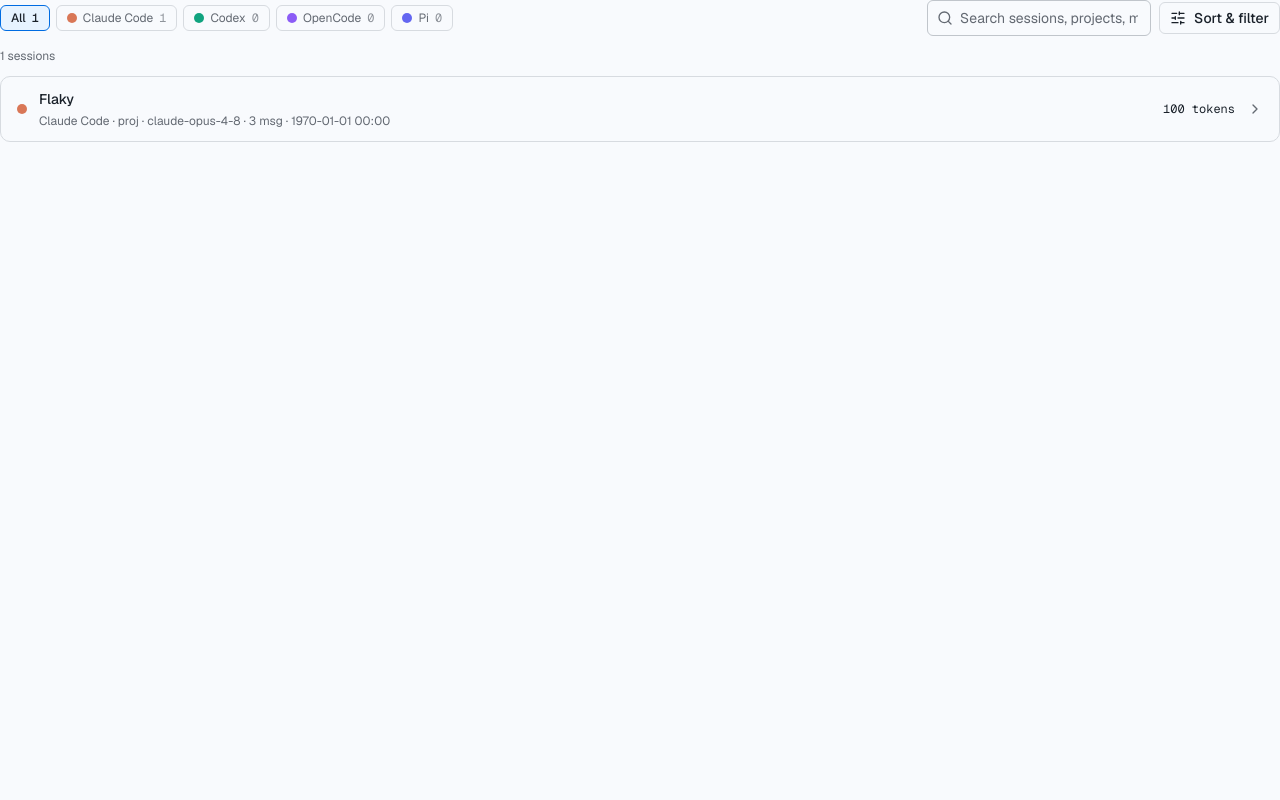
Test: SessionBrowser › retries a failed load in place
Click the text "Flaky".
click(57, 99)  # box top-left (39, 90), bottom-right (74, 108)
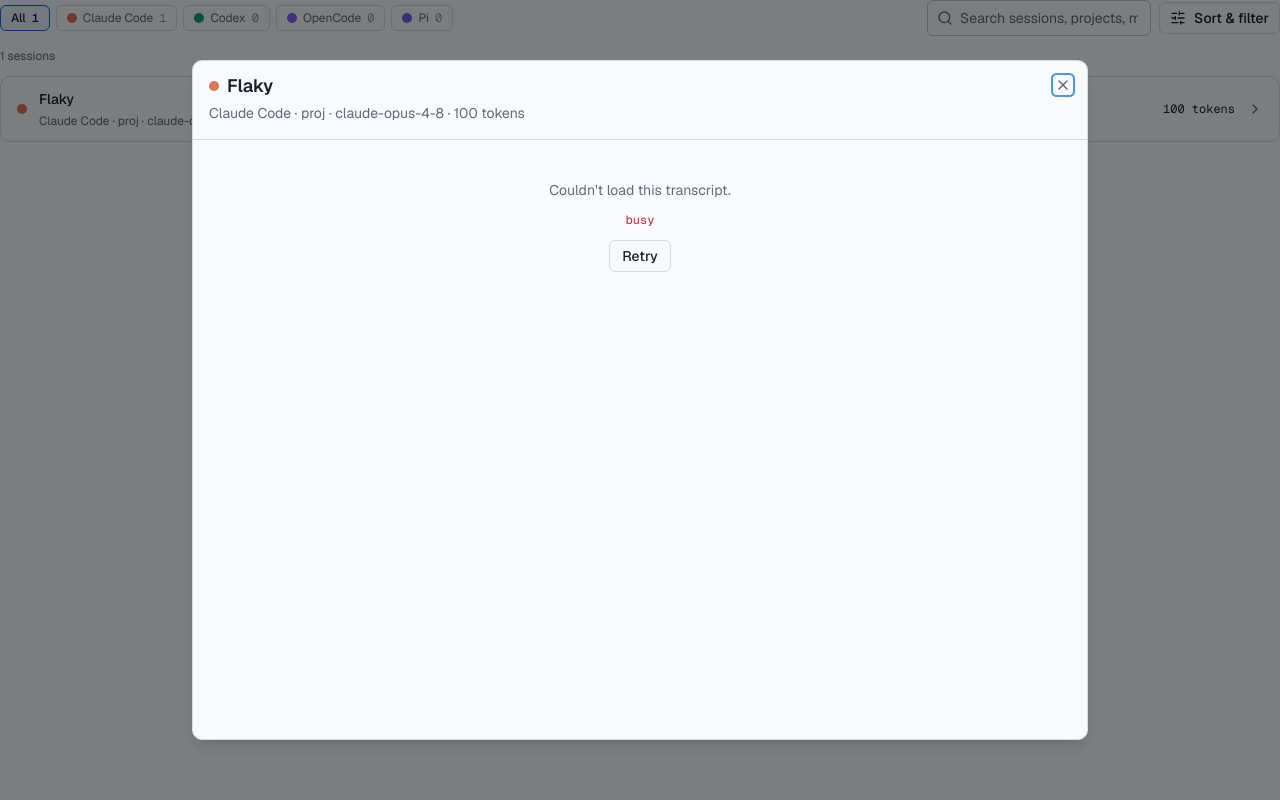
Click the button "Retry".
click(640, 256)  # box top-left (609, 240), bottom-right (671, 272)
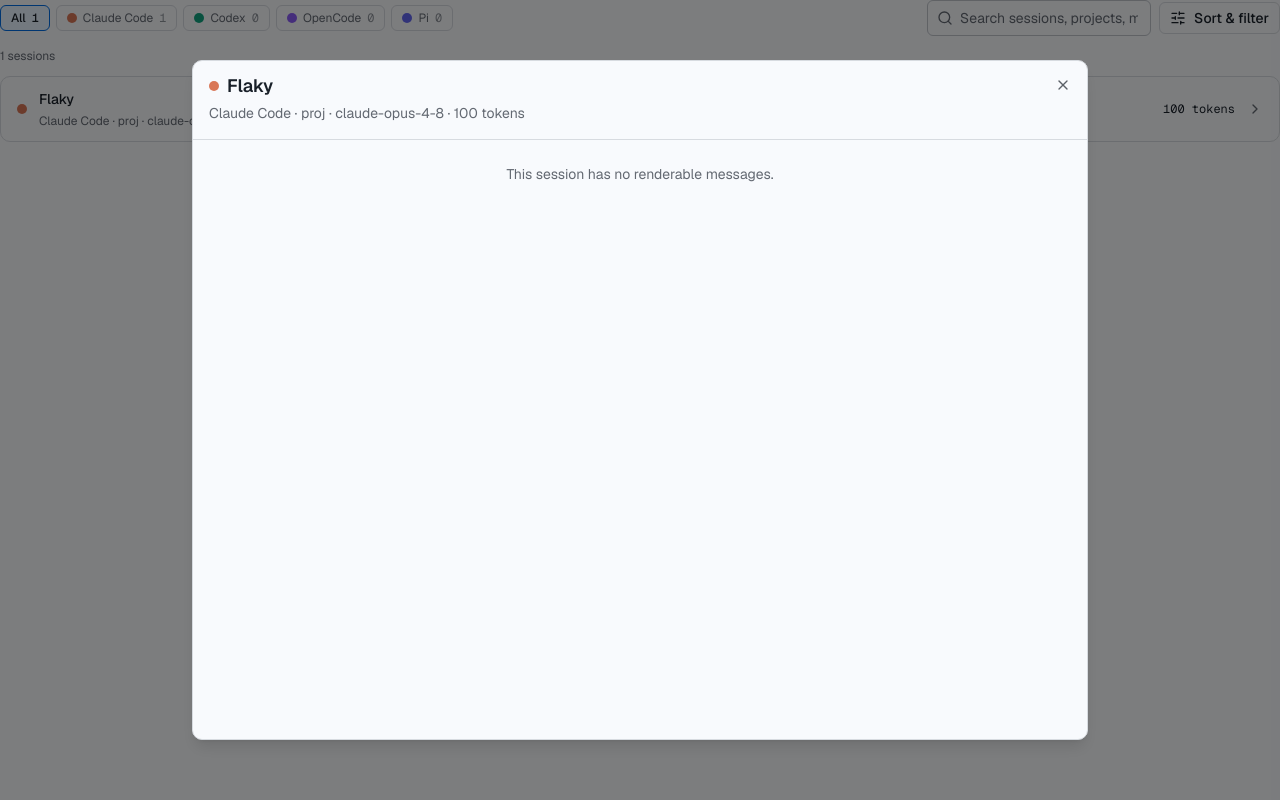
Expected: the text "This session has no renderable messages." is shown, top-left (506, 165), bottom-right (774, 183)
